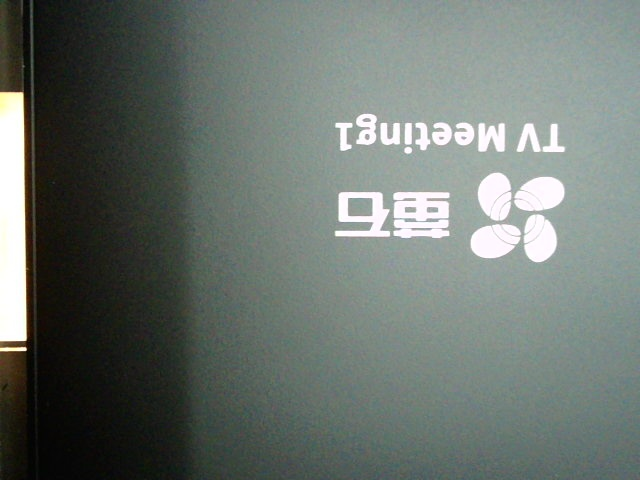BA_Yingshi: (325, 111, 570, 266)
